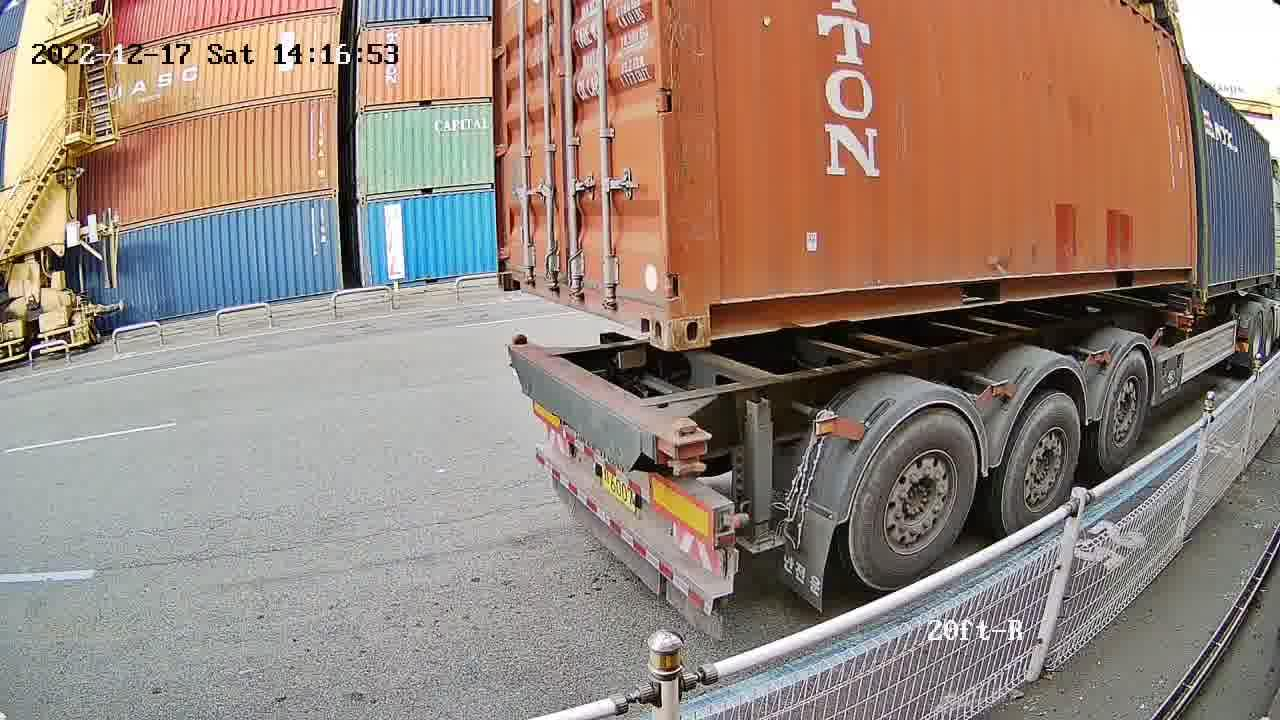Chassis: (509, 348, 662, 471)
Cone: (662, 415, 714, 481), (507, 328, 530, 360)
Hole_L: (669, 264, 738, 349), (497, 248, 524, 293)
Hole_R: (623, 269, 666, 349)
Tire: (849, 414, 979, 586), (1004, 393, 1083, 527), (1101, 349, 1150, 468)
